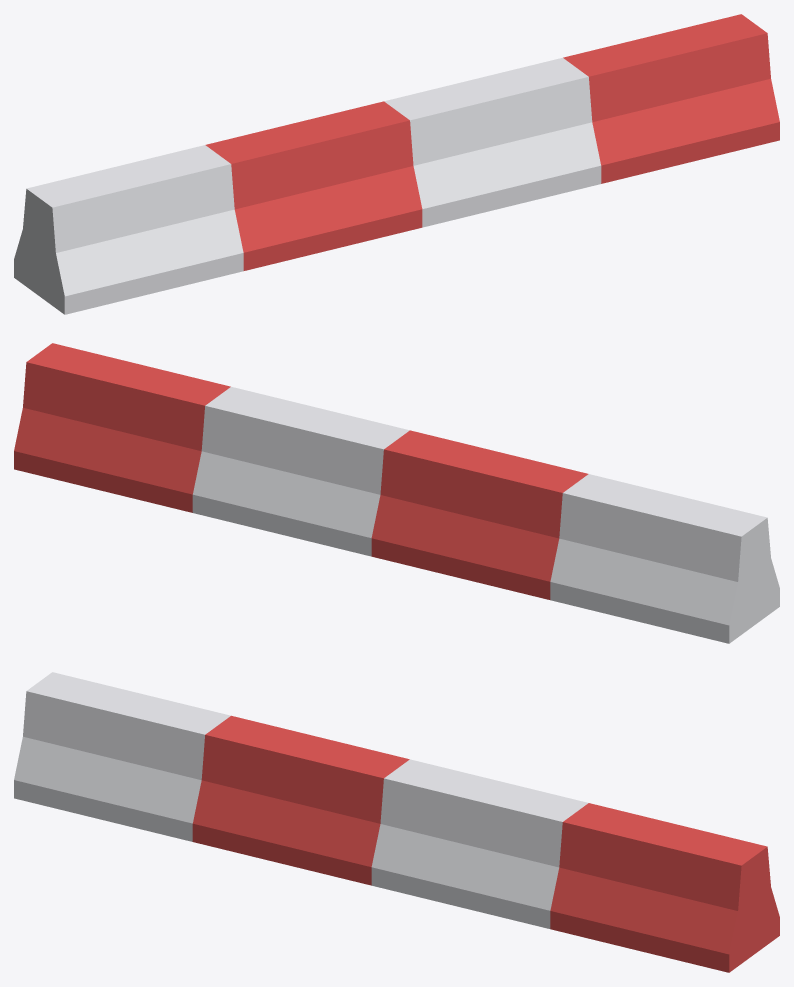
The model's file is barrierWall.glb.
The picture shows the model from 3 angles, top to bottom: view 1: azimuth 30°, elevation 25°; view 2: azimuth 150°, elevation 25°; view 3: azimuth 330°, elevation 25°; orthographic projection.
Parts seen in each view (by area): view 1: barrierWall(Clone); view 2: barrierWall(Clone); view 3: barrierWall(Clone).
Boxes of the visible parts, x1,y1,x2,y2 form: barrierWall(Clone): (14, 14, 779, 314); barrierWall(Clone): (14, 343, 779, 643); barrierWall(Clone): (14, 672, 779, 972).
Size of the model in its own units: 1 by 0.1312 by 0.123.
